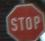Stop sign: (0, 0, 44, 40)
